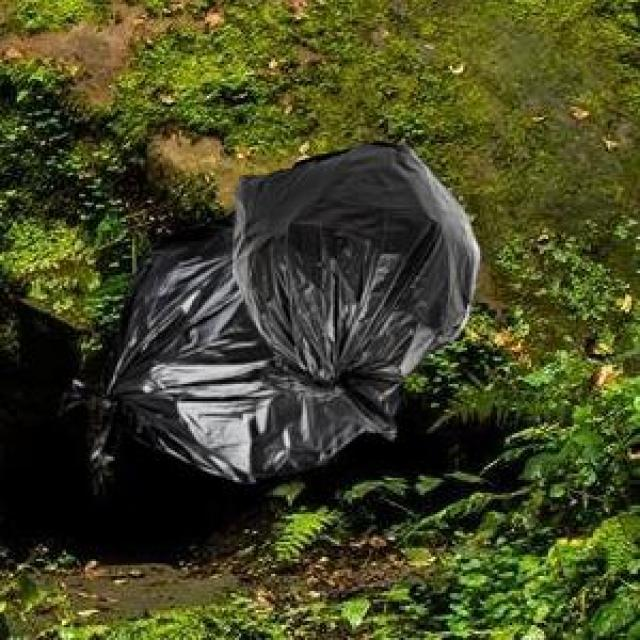Vinyl: (90, 237, 410, 481), (237, 140, 467, 364)
